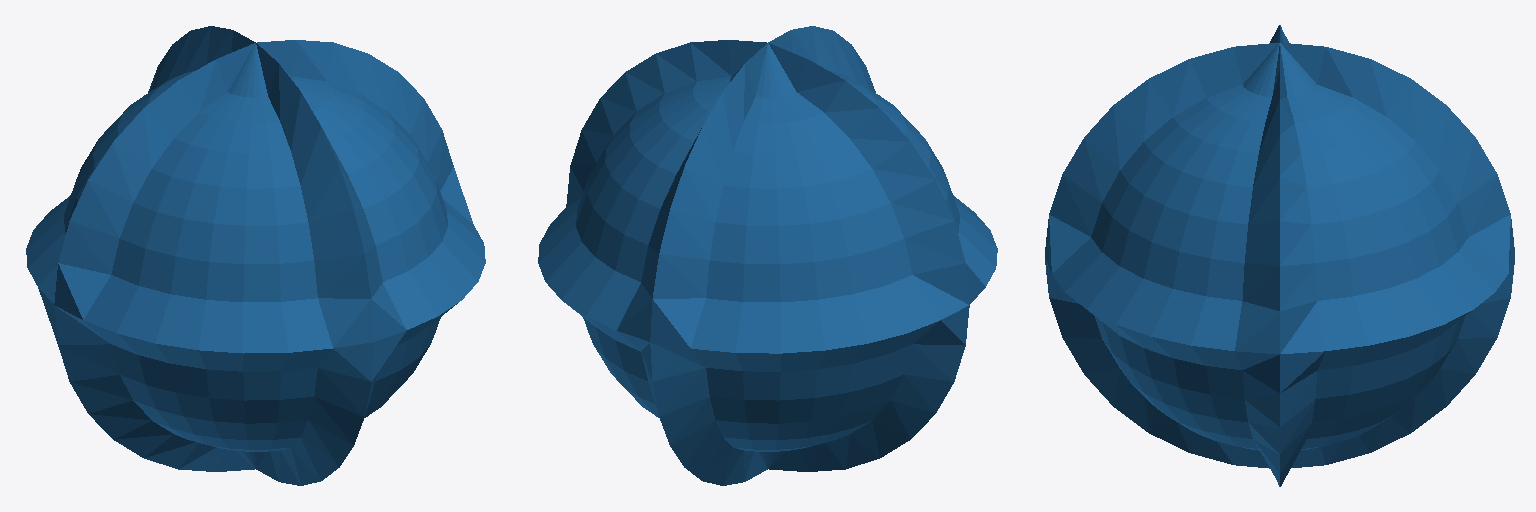
File: core.obj
The picture shows the model from 3 angles: view 1: azimuth 30°, elevation 25°; view 2: azimuth 150°, elevation 25°; view 3: azimuth 270°, elevation 25°; orthographic projection.
Parts seen in each view (by area): view 1: Sphere; view 2: Sphere; view 3: Sphere.
Part boxes in pixels (bbox=[...]): Sphere: bbox=[26, 26, 485, 485]; Sphere: bbox=[538, 26, 997, 485]; Sphere: bbox=[1045, 25, 1514, 486].
Bounding box in the file's own units: 0.3895 × 0.3938 × 0.3938.